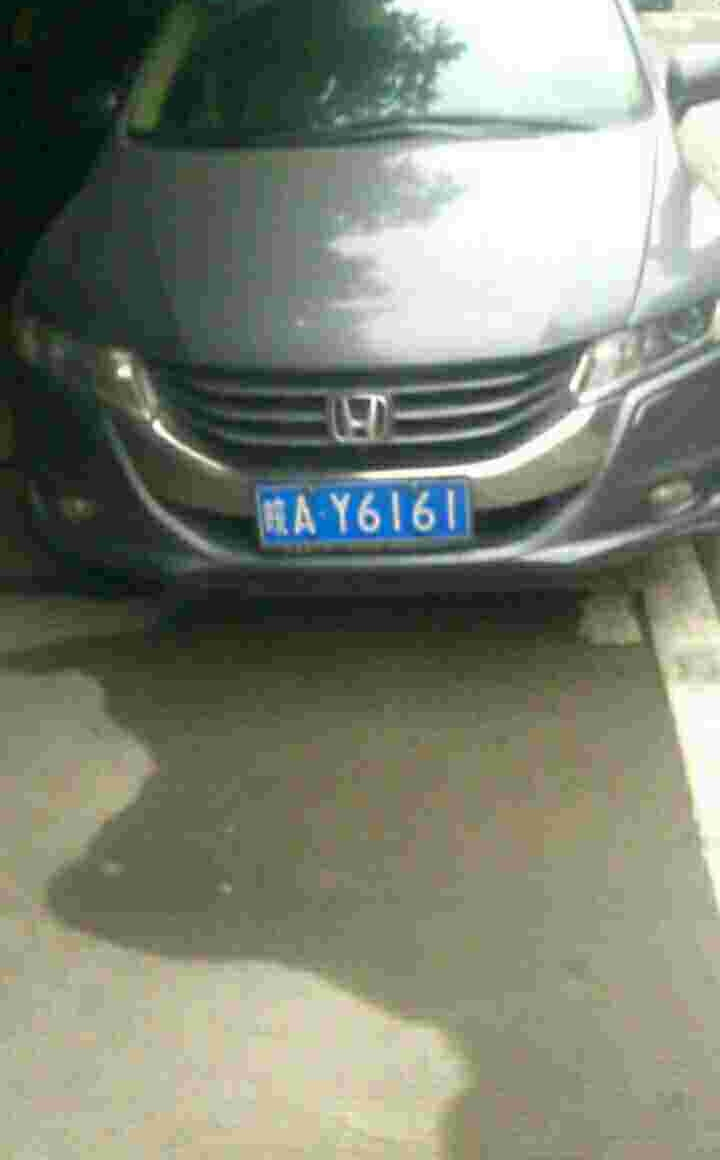license_plate: (256, 478, 462, 547)
